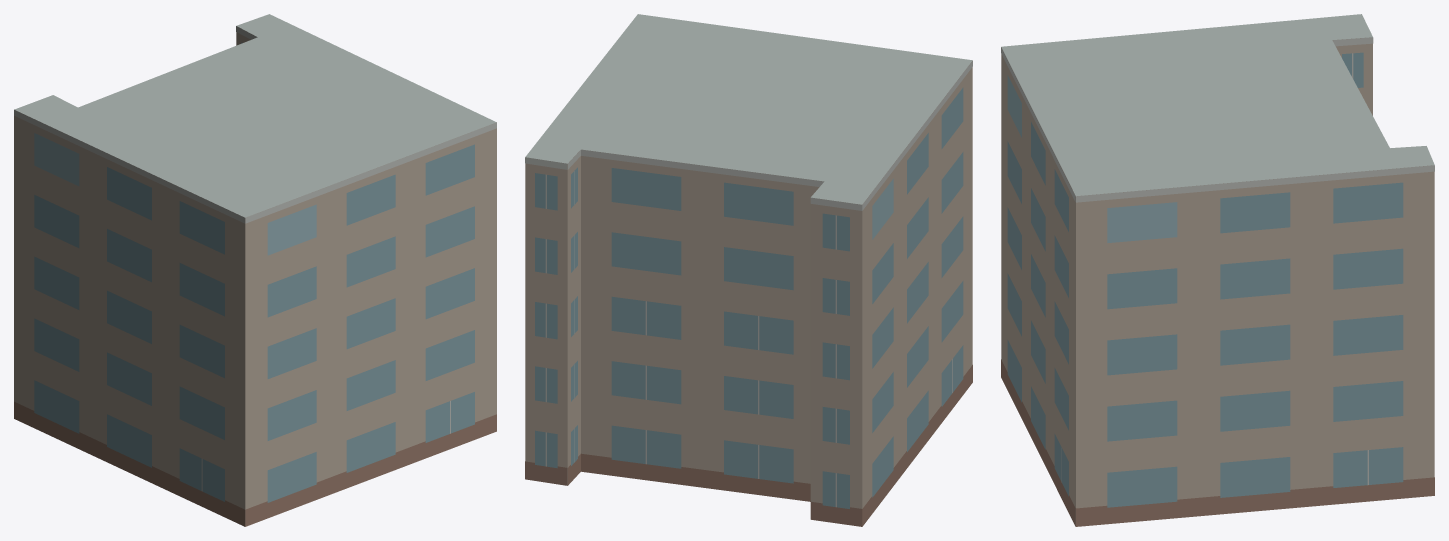
File: survey-upis-32942755.glb
3 renders of one model, left to right at view 1: azimuth 30°, elevation 25°; view 2: azimuth 150°, elevation 25°; view 3: azimuth 270°, elevation 25°, orthographic. The views are drawn at different scales.
Visible parts, largest first — view 1: survey-upis-32942755.tmp; view 2: survey-upis-32942755.tmp; view 3: survey-upis-32942755.tmp.
Part boxes in pixels (x1,y1,x2,y2): survey-upis-32942755.tmp: [14, 14, 496, 526]; survey-upis-32942755.tmp: [525, 14, 972, 526]; survey-upis-32942755.tmp: [1001, 14, 1434, 526].
Size of the model in its own units: 14.78 by 12.5 by 14.87.
